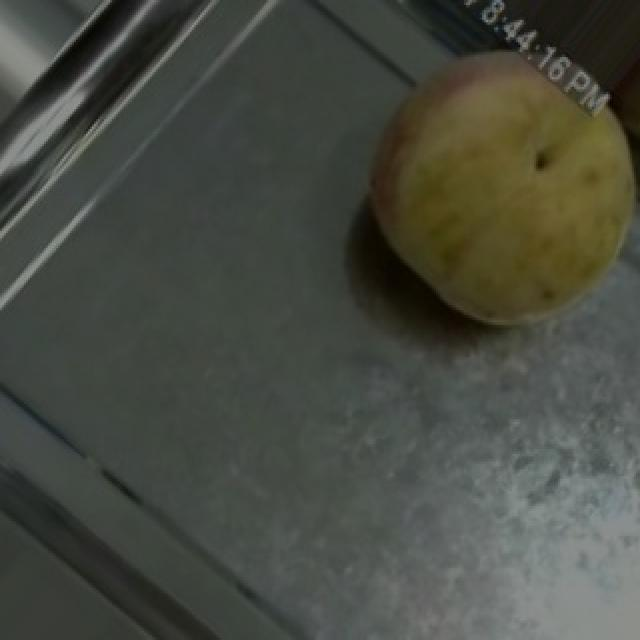Fruit: (316, 2, 640, 370)
